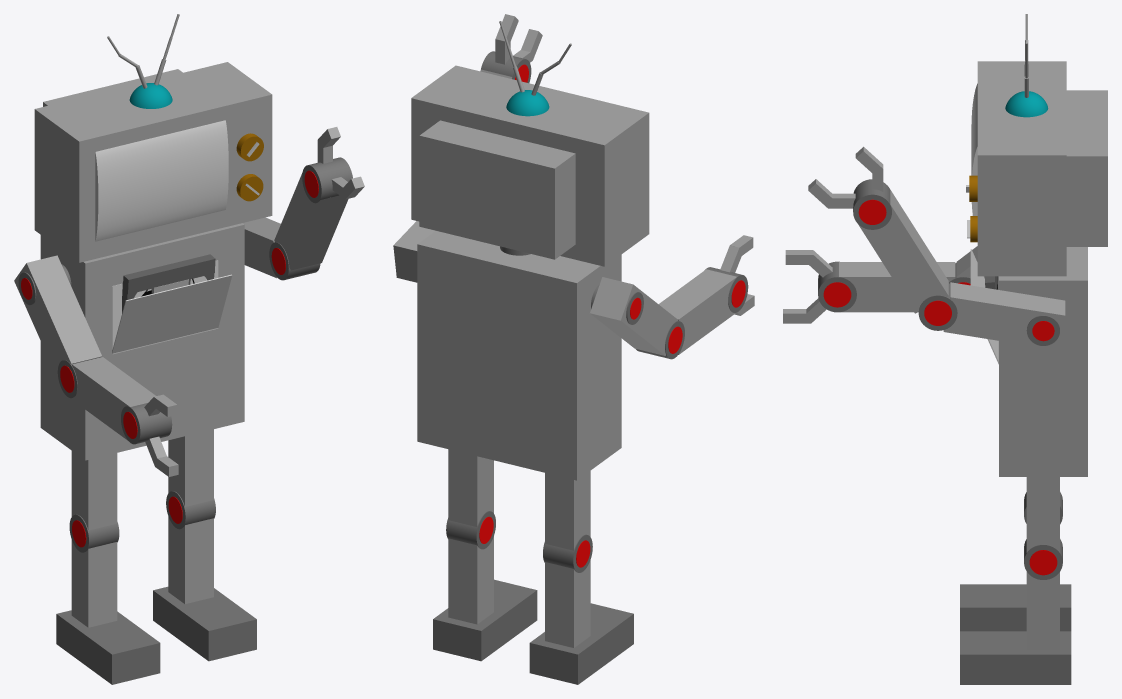
File: Robot2.glb
The picture shows the model from 3 angles, left to right: view 1: azimuth 30°, elevation 25°; view 2: azimuth 150°, elevation 25°; view 3: azimuth 270°, elevation 25°; orthographic projection.
Bounding box in the file's own units: 2.41 × 6.16 × 2.92.
